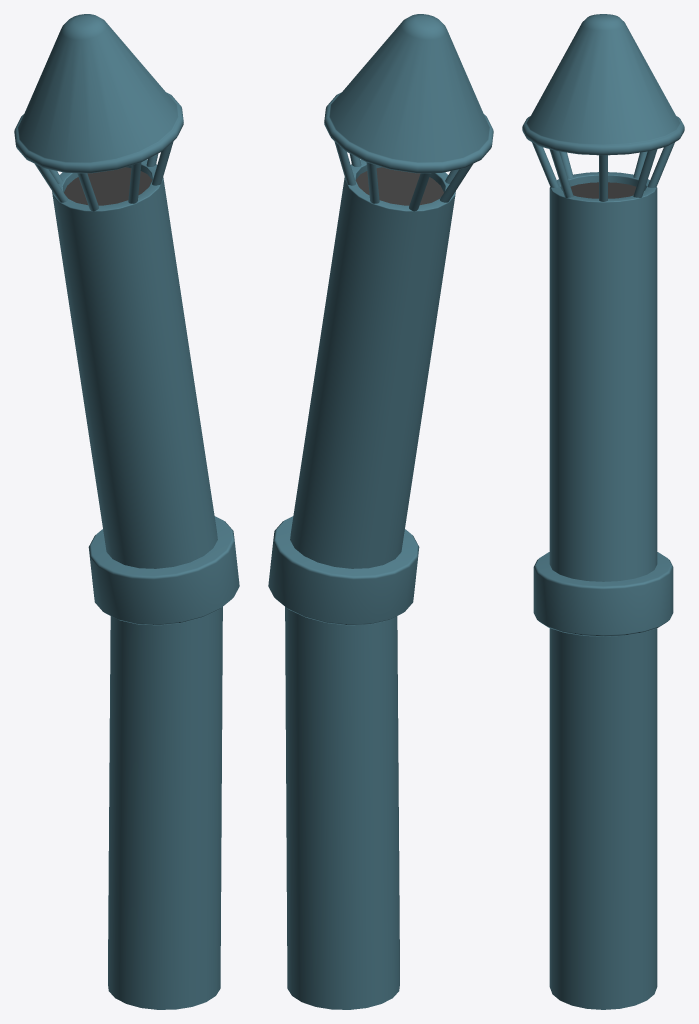
Rendered from City_16_Chimney_1.glb.
3 views of the same model, side by side, from view 1: azimuth 30°, elevation 25°; view 2: azimuth 150°, elevation 25°; view 3: azimuth 270°, elevation 25° (orthographic). The views are drawn at different scales.
Visible parts, largest first — view 1: City_16_Chimney_1; view 2: City_16_Chimney_1; view 3: City_16_Chimney_1.
Boxes of the visible parts, x1=… form: City_16_Chimney_1: x1=14, y1=14, x2=239, y2=1009; City_16_Chimney_1: x1=268, y1=14, x2=493, y2=1009; City_16_Chimney_1: x1=522, y1=14, x2=684, y2=1009.
Size of the model in its own units: 0.7109 by 3.27 by 0.5162.
Materials: 1 (1 with a texture image).
